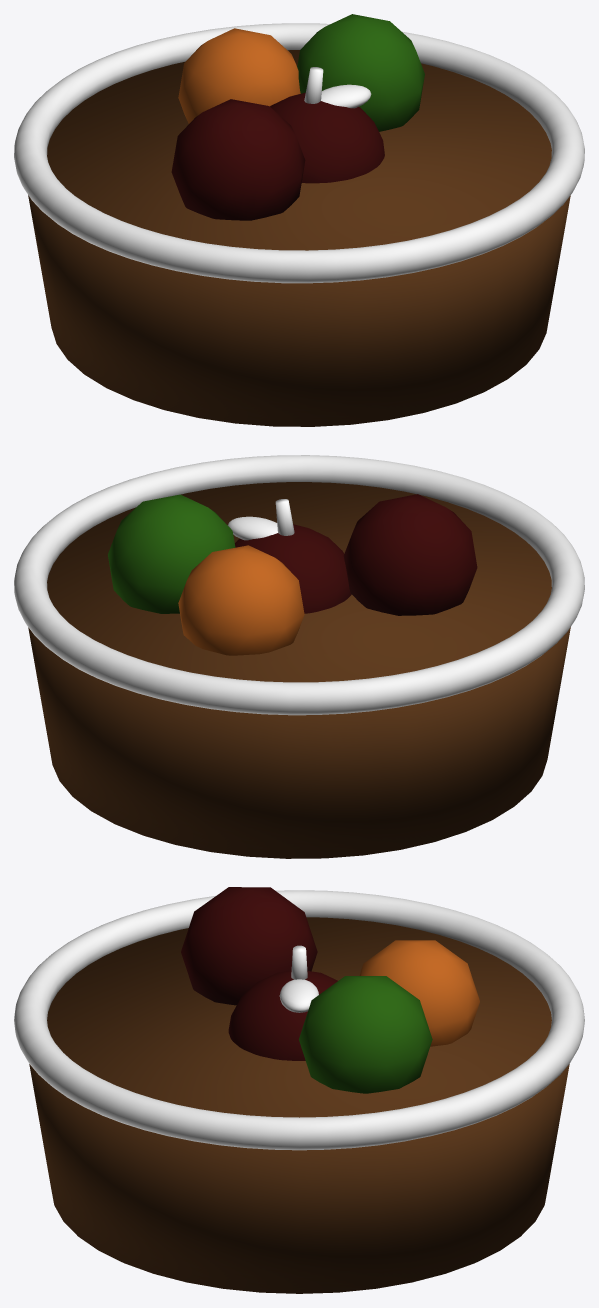
The model's file is food-basket.obj.
The picture shows the model from 3 angles, top to bottom: view 1: azimuth 30°, elevation 25°; view 2: azimuth 150°, elevation 25°; view 3: azimuth 270°, elevation 25°; orthographic projection.
Visible parts, largest first — view 1: food-basket; view 2: food-basket; view 3: food-basket.
Part boxes in pixels (x1=…): food-basket: x1=14, y1=14, x2=584, y2=426; food-basket: x1=14, y1=455, x2=584, y2=858; food-basket: x1=14, y1=887, x2=584, y2=1293.
Bounding box in the file's own units: 0.69 × 0.3423 × 0.69.
